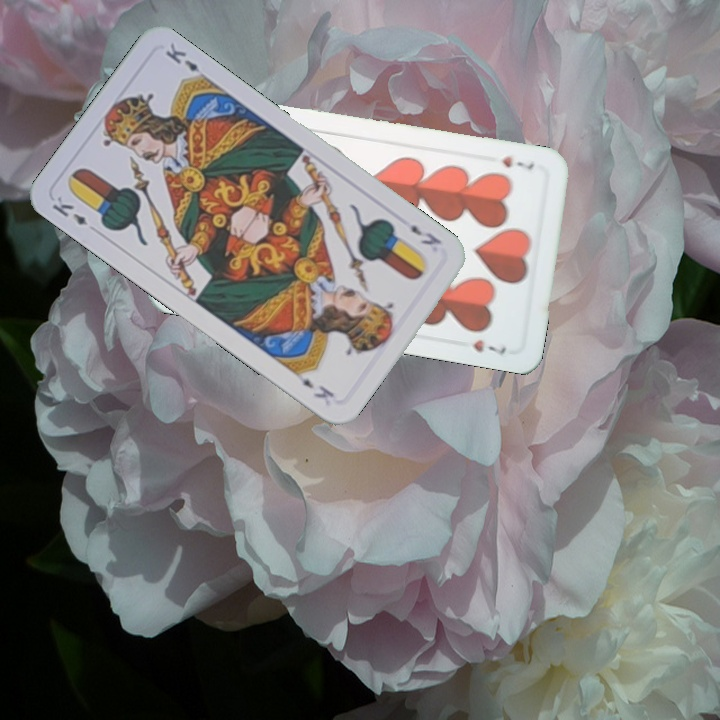EK: (47, 192, 90, 228), (406, 220, 445, 248)
H7: (498, 152, 537, 172)
